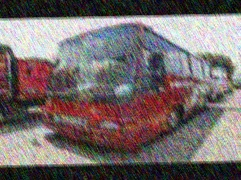bus: (41, 19, 218, 156)
